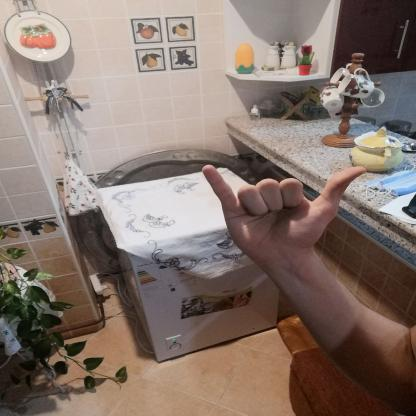YA: (189, 150, 380, 272)
